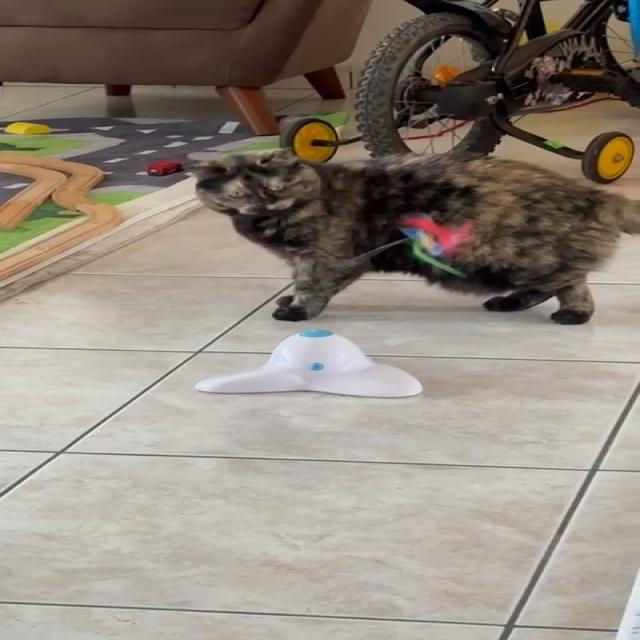authorized: (185, 146, 639, 324)
